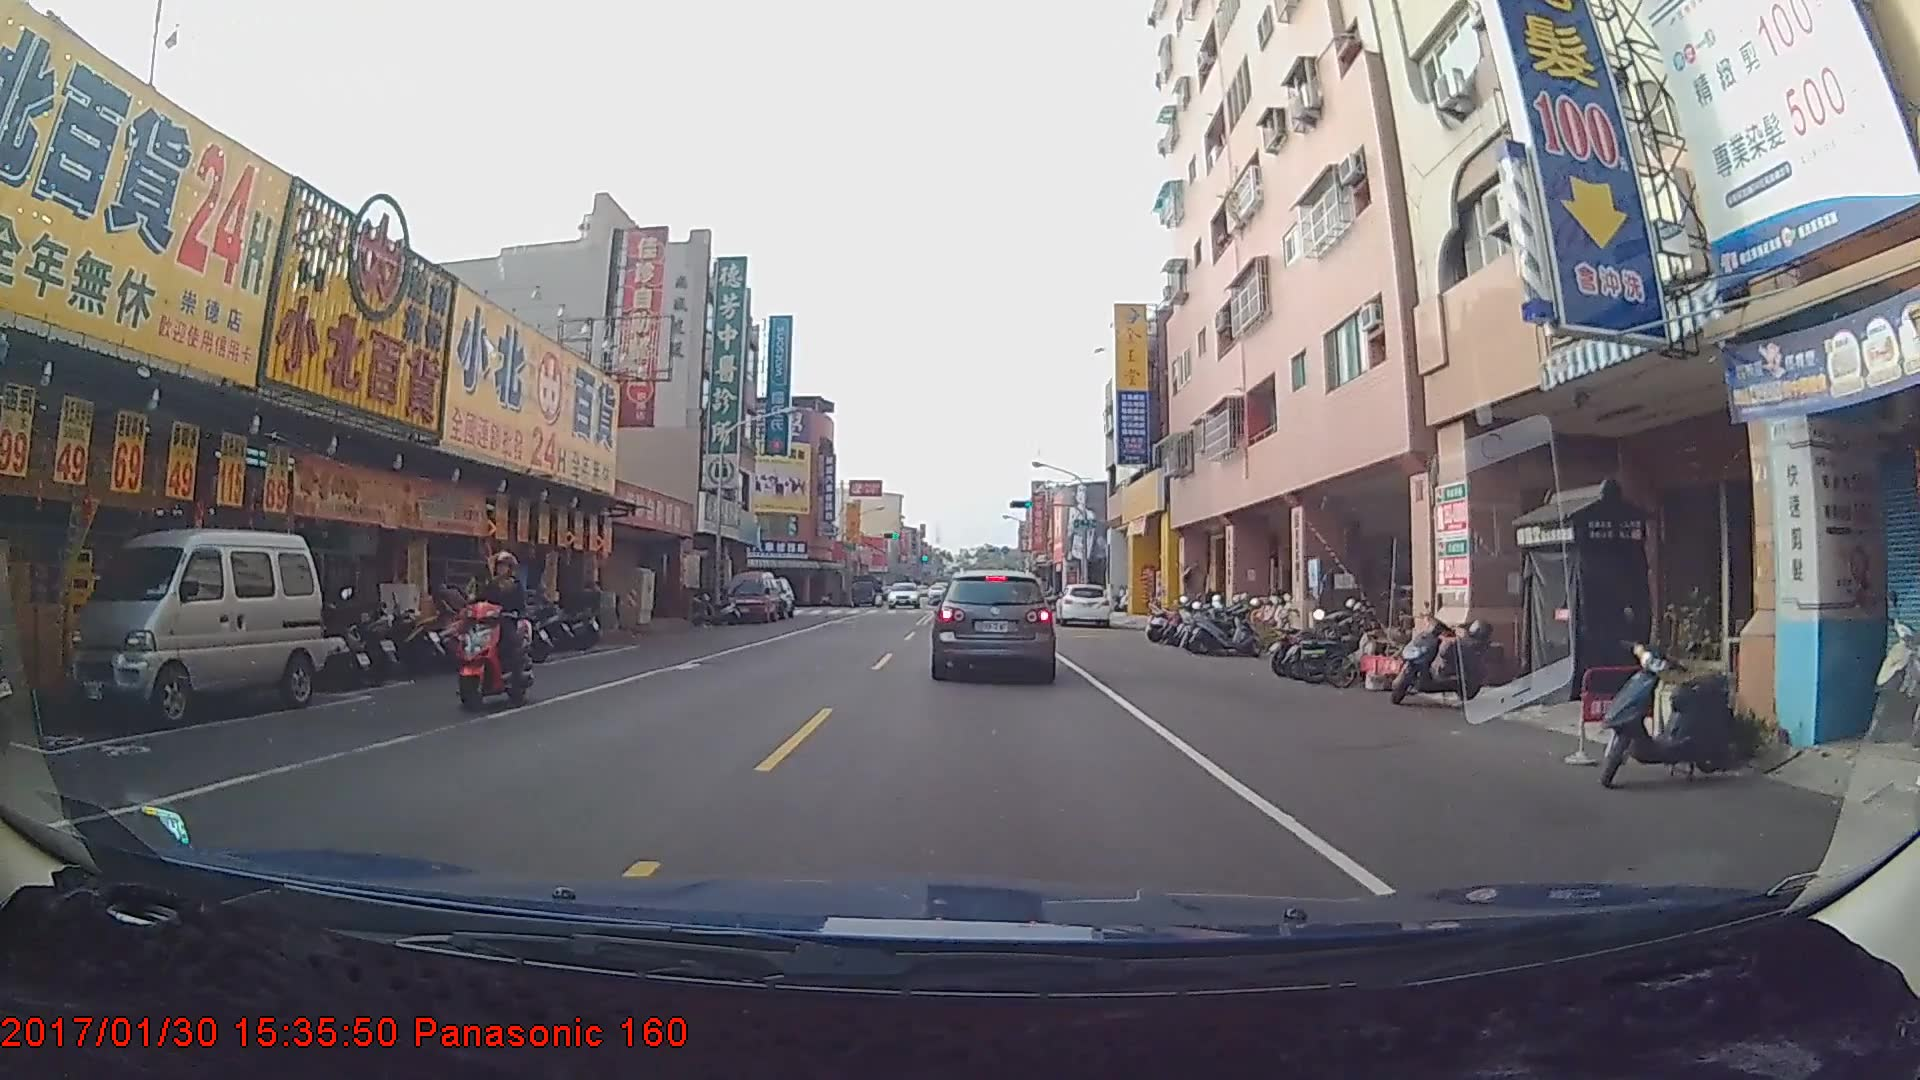rider: (456, 548, 544, 719)
vehicle: (66, 531, 320, 734), (933, 568, 1054, 679), (725, 568, 780, 622), (1055, 583, 1112, 629), (885, 581, 919, 608)
